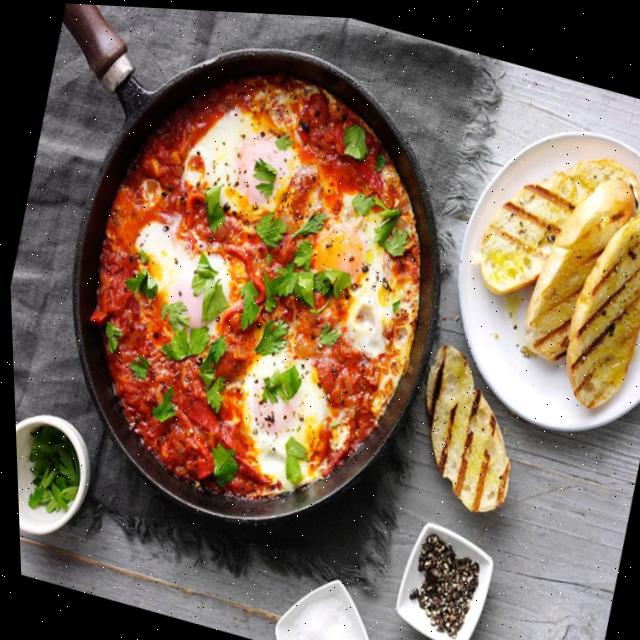Bread: (477, 151, 623, 288), (522, 171, 634, 349), (563, 207, 640, 401), (522, 239, 597, 354)
Egg: (313, 190, 415, 353), (423, 340, 506, 506), (182, 104, 300, 217), (133, 220, 227, 324), (240, 345, 326, 447)
